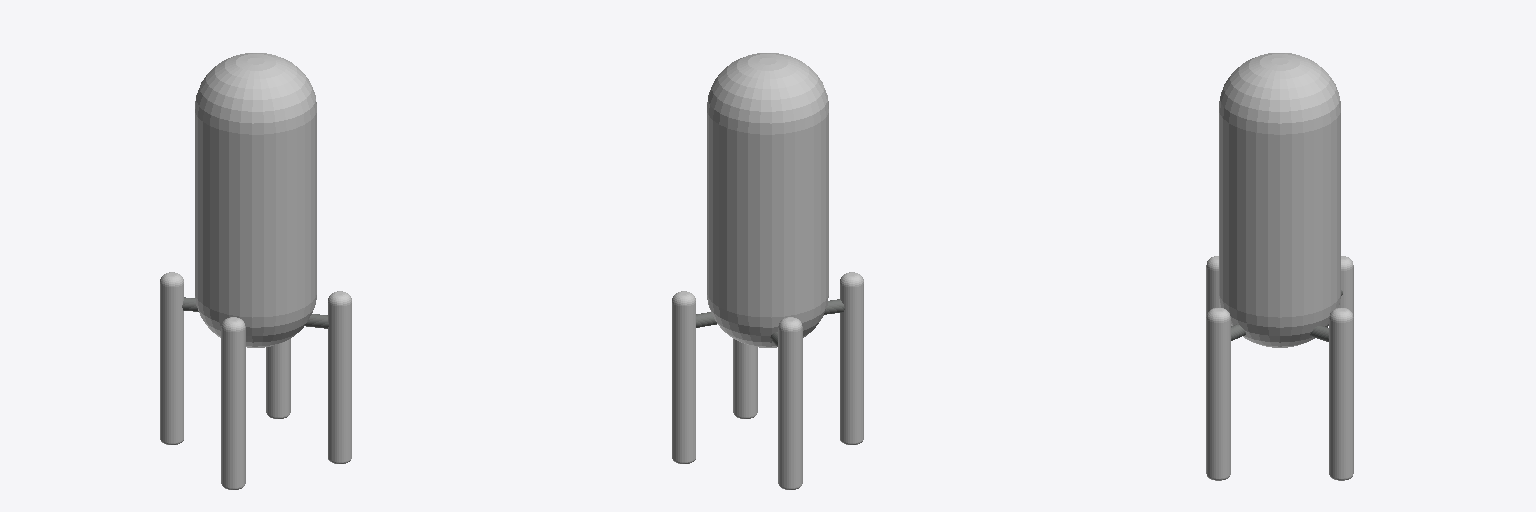
The picture shows the model from 3 angles: view 1: azimuth 30°, elevation 25°; view 2: azimuth 150°, elevation 25°; view 3: azimuth 270°, elevation 25°; orthographic projection.
Visible parts, largest first — view 1: Цилиндр.006_Цилиндр.008; view 2: Цилиндр.006_Цилиндр.008; view 3: Цилиндр.006_Цилиндр.008.
Part boxes in pixels (x1,y1,x2,y2): Цилиндр.006_Цилиндр.008: (160, 53, 351, 489); Цилиндр.006_Цилиндр.008: (672, 53, 863, 489); Цилиндр.006_Цилиндр.008: (1206, 53, 1353, 480).
Size of the model in its own units: 2.4 by 7 by 2.4.